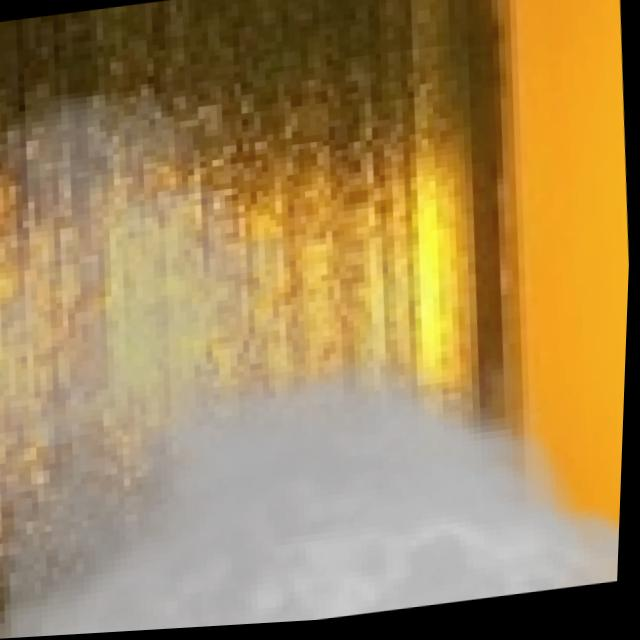smoke: (0, 15, 639, 640)
